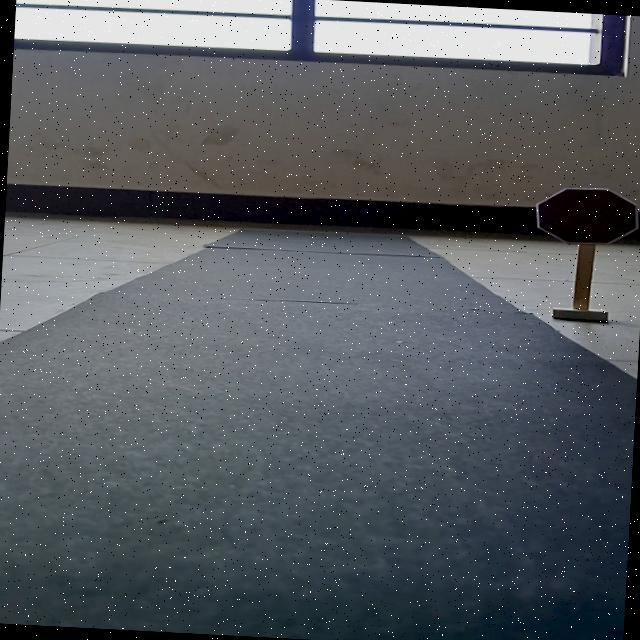Stop: (533, 185, 640, 249)
